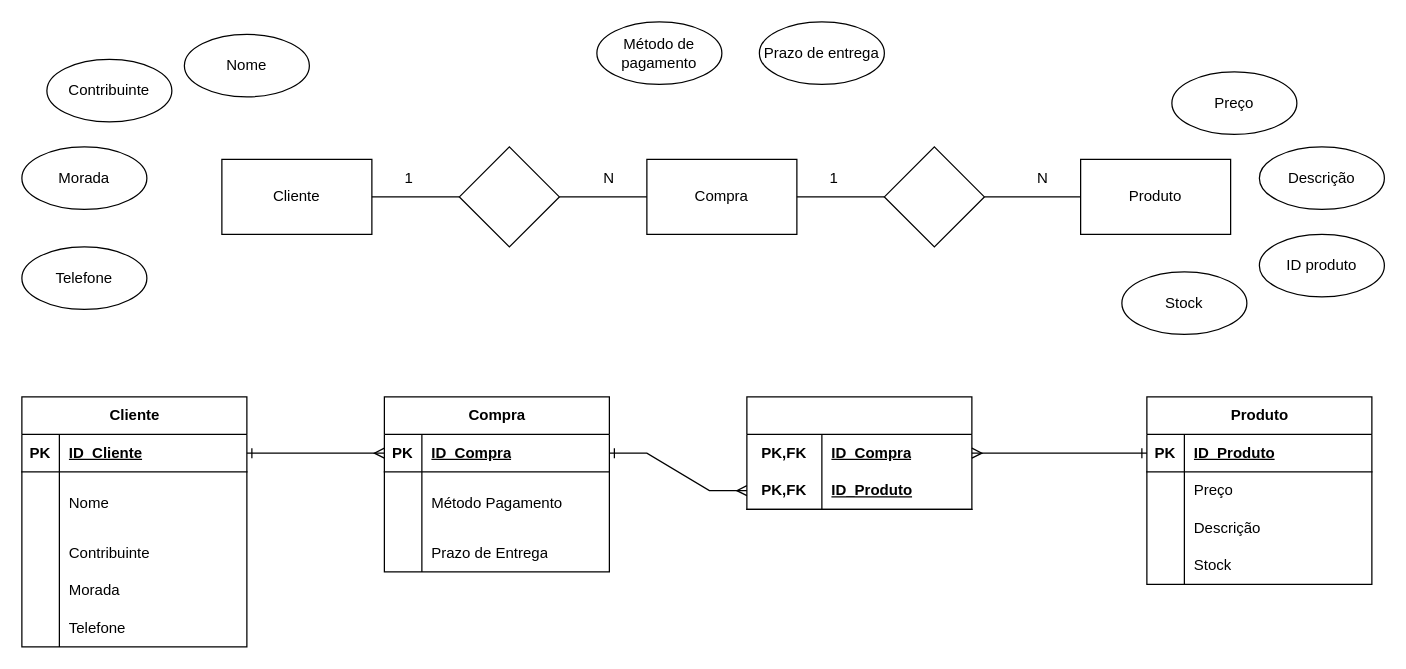
Image size: 1406x669. Some labels were removed from this diagram. The shapes that lost their labels are listed below. From the top down, each one's box as (x1, y1, x2, y2) in pixels, then its label:
(458, 146, 559, 247): Faz
(883, 146, 984, 247): Tem
(746, 396, 972, 509): Table
